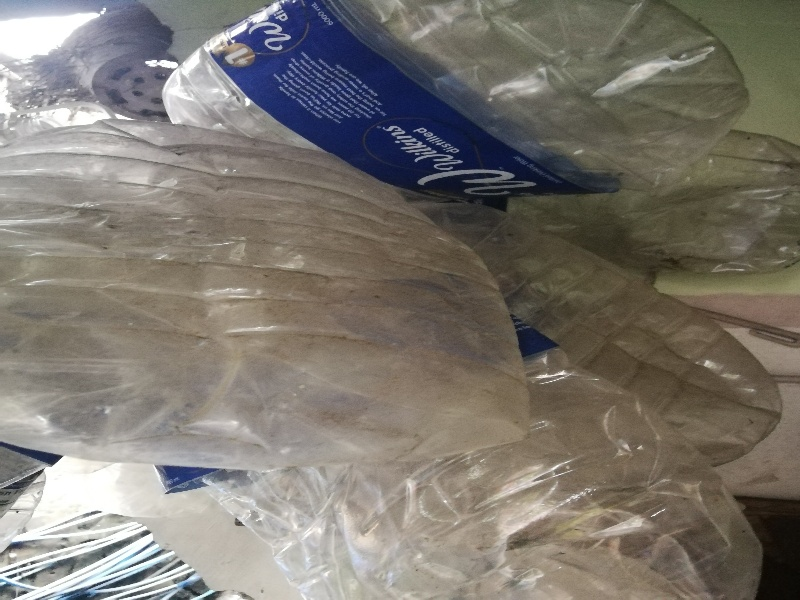PET #1: (1, 123, 525, 461), (173, 1, 740, 207), (447, 208, 779, 462), (205, 452, 764, 600)
